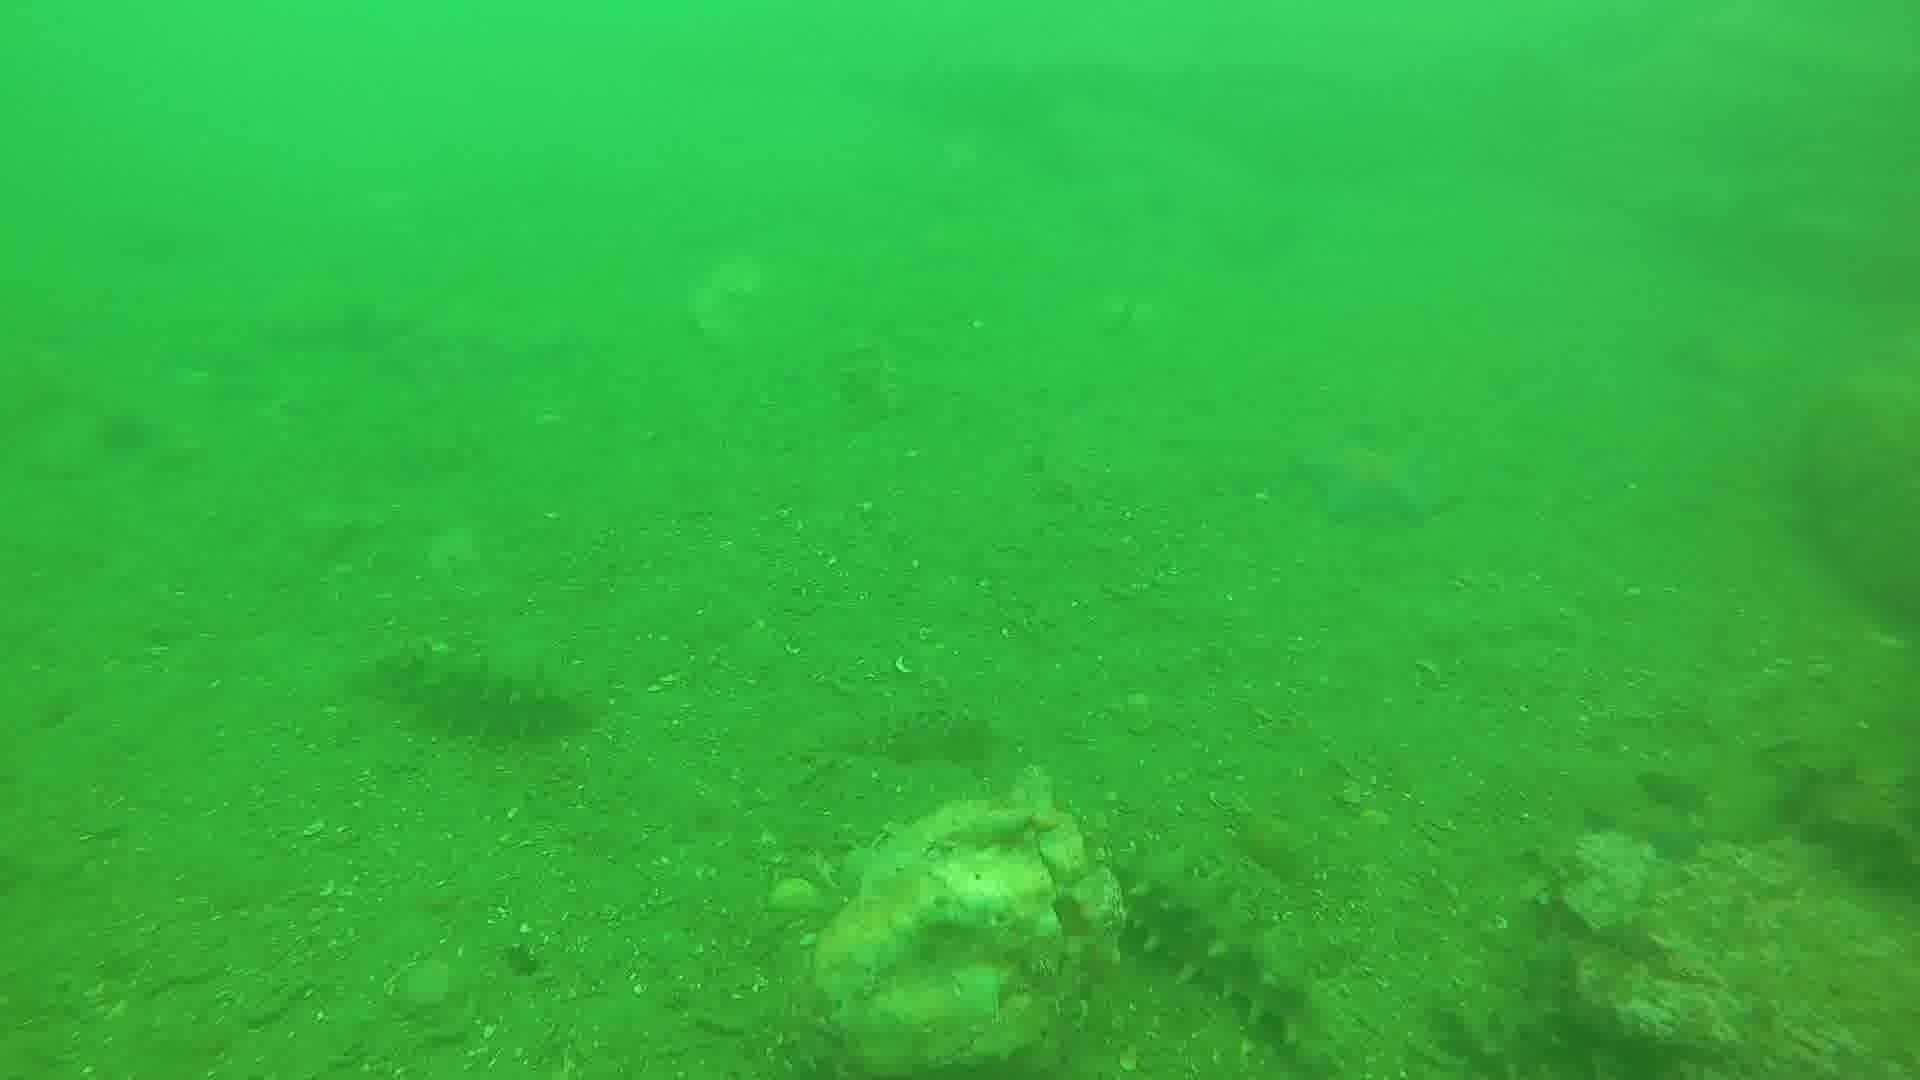echinus: (91, 404, 157, 462)
holothurian: (1114, 841, 1356, 1067), (364, 641, 597, 748), (1768, 746, 1919, 902), (1447, 923, 1586, 1076)
starfish: (1291, 430, 1439, 531)
